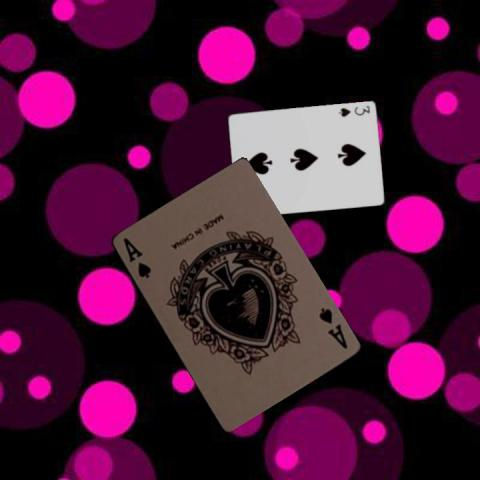3s: (336, 103, 371, 118)
As: (314, 304, 348, 351), (119, 234, 153, 280)
